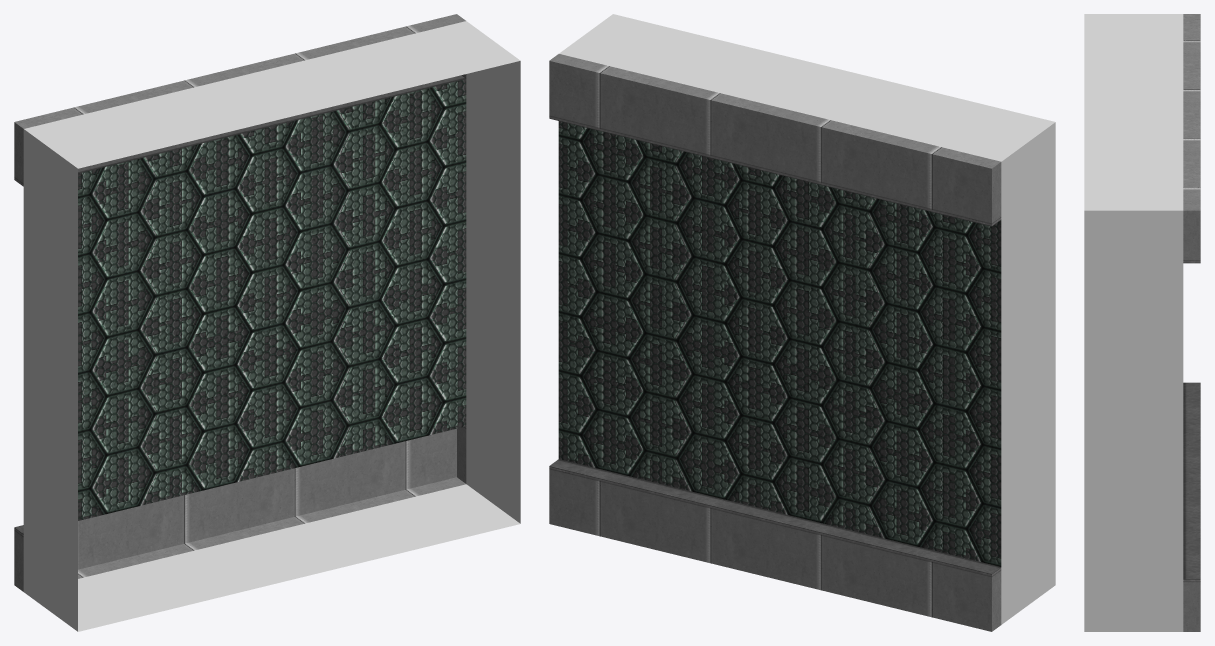
File: OC_road_straight.fbx
3 views of the same model, side by side, from view 1: azimuth 30°, elevation 25°; view 2: azimuth 150°, elevation 25°; view 3: azimuth 270°, elevation 25° (orthographic). The views are drawn at different scales.
Visible parts, largest first — view 1: OC_road_straight; view 2: OC_road_straight; view 3: OC_road_straight.
Part boxes in pixels (x1,y1,x2,y2): OC_road_straight: (14,14,520,631); OC_road_straight: (549,14,1055,631); OC_road_straight: (1084,14,1200,631).
Size of the model in its own units: 4 by 4 by 1.
